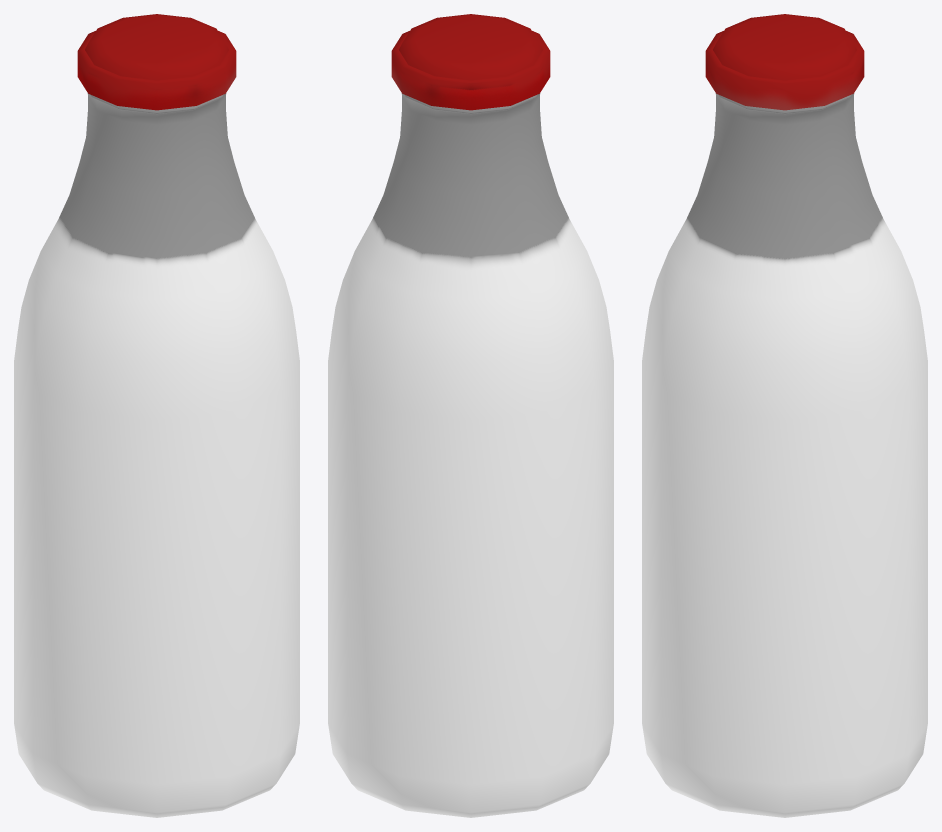
The model's file is Mleko.gltf.
3 views of the same model, side by side, from view 1: azimuth 30°, elevation 25°; view 2: azimuth 150°, elevation 25°; view 3: azimuth 270°, elevation 25° (orthographic).
Parts seen in each view (by area): view 1: Plane.001; view 2: Plane.001; view 3: Plane.001.
Part boxes in pixels (<box>): Plane.001: <box>14,14,299,817</box>; Plane.001: <box>328,14,613,817</box>; Plane.001: <box>642,14,927,817</box>.
Size of the model in its own units: 1.05 by 2.97 by 1.05.
3 materials, 3 textured.
